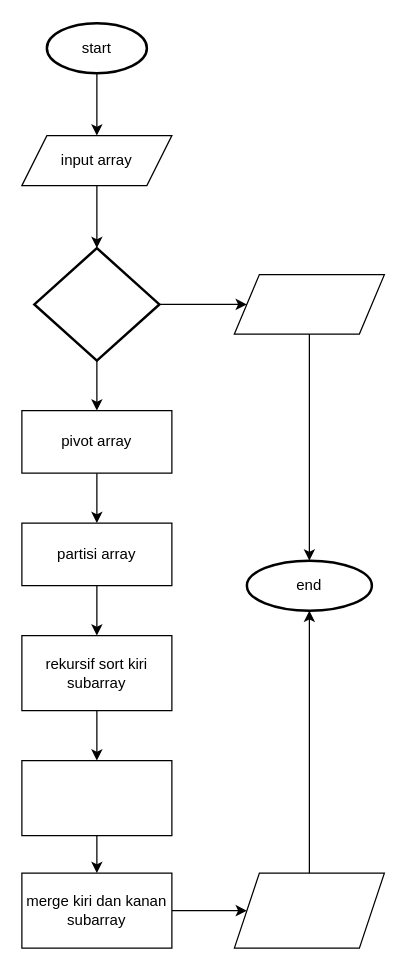
The diagram is 406 pixels wide and 970 high, and some of its shapes have lost their labels. The shapes that lost their labels are listed below. From the top down, each one's centre as x and y in pixels, then its label:
At (96,303): "array size <=1".
At (308,303): "output array".
At (96,797): "rekursif sort kanan subarray".
At (308,910): "output sort array".
